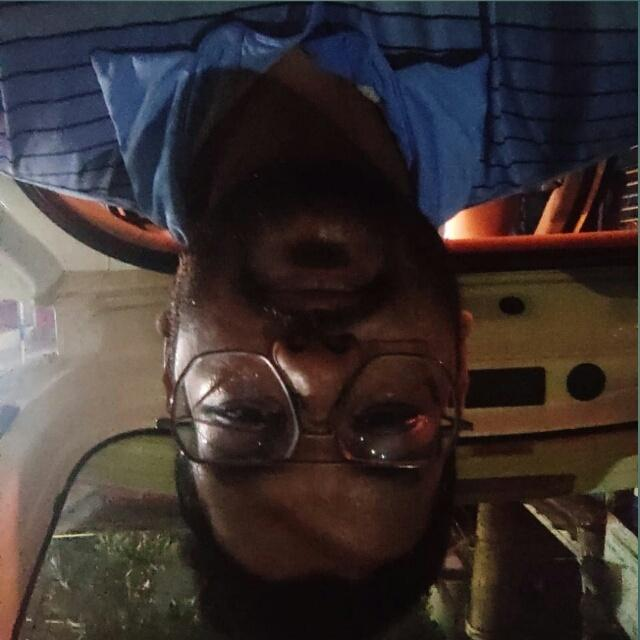Natural: (171, 186, 478, 602)
